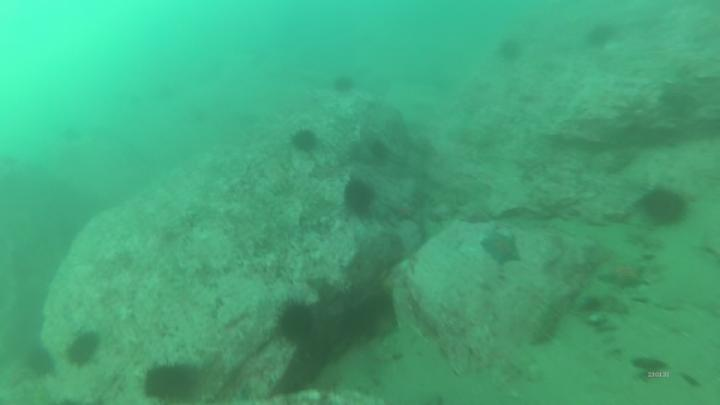echinus: (145, 368, 192, 400), (280, 306, 314, 340), (67, 336, 99, 363), (346, 181, 373, 213), (292, 130, 316, 150), (590, 28, 614, 45), (502, 40, 520, 60), (336, 79, 354, 92)
holothurian: (533, 297, 565, 350)
starfish: (645, 188, 686, 224), (598, 259, 645, 289), (484, 234, 522, 262), (391, 203, 416, 221)
